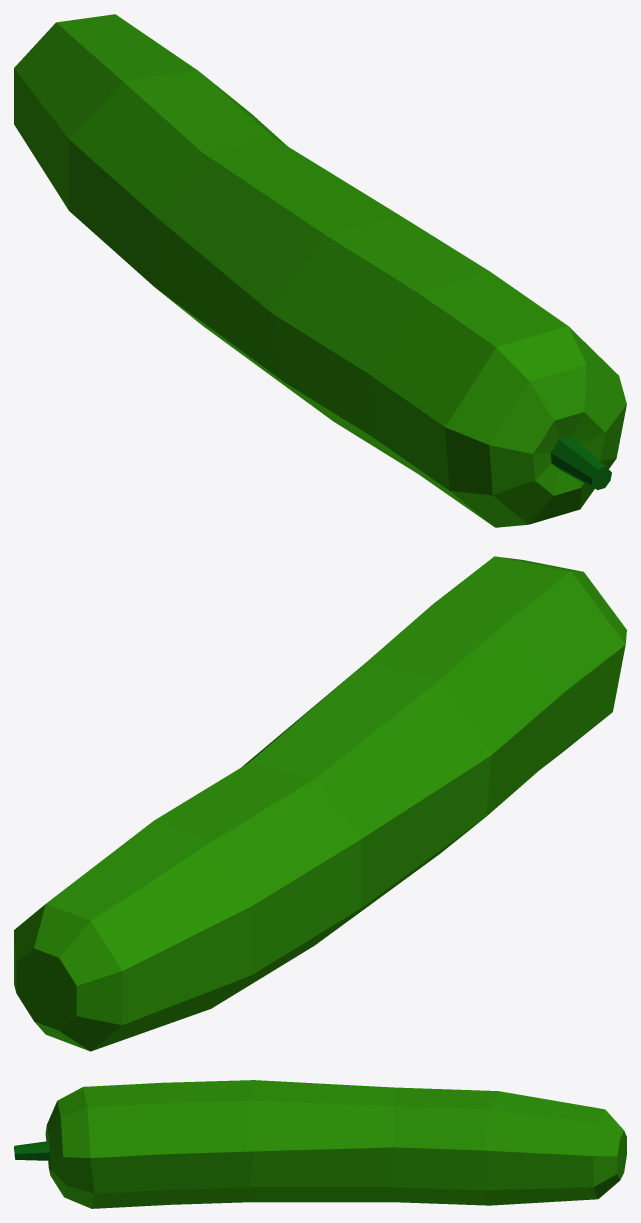
File: cucumber01.gltf
The picture shows the model from 3 angles, top to bottom: view 1: azimuth 30°, elevation 25°; view 2: azimuth 150°, elevation 25°; view 3: azimuth 270°, elevation 25°; orthographic projection. The views are drawn at different scales.
Visible parts, largest first — view 1: Cylinder; view 2: Cylinder; view 3: Cylinder.
Part boxes in pixels (x1=…): Cylinder: x1=14, y1=14, x2=626, y2=527; Cylinder: x1=14, y1=556, x2=626, y2=1051; Cylinder: x1=14, y1=1080, x2=626, y2=1208.
Bounding box in the file's own units: 0.0604 × 0.0543 × 0.2878.
1 material, 1 textured.
